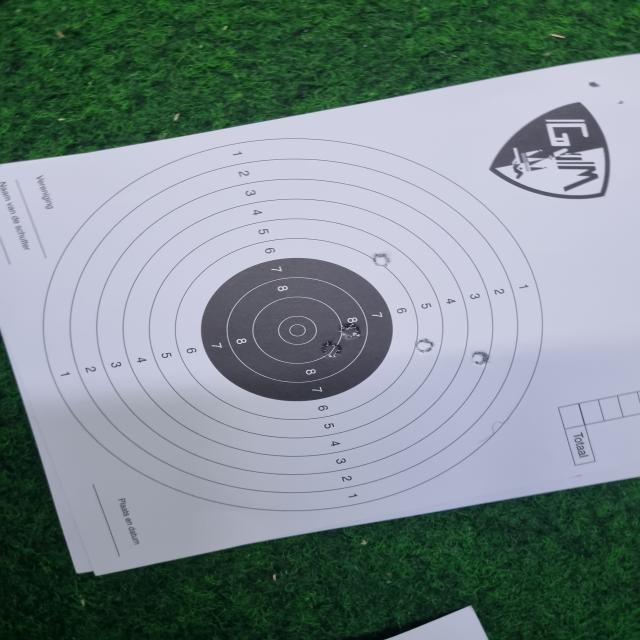10: (321, 342, 342, 357), (338, 325, 361, 338)
4: (472, 351, 491, 365)
6: (416, 338, 434, 353)
7: (373, 253, 391, 267)
Black Contour: (200, 257, 393, 402)
Target: (41, 136, 544, 512)
